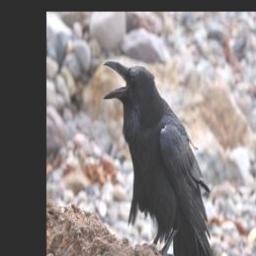Crow: (104, 62, 226, 256)
